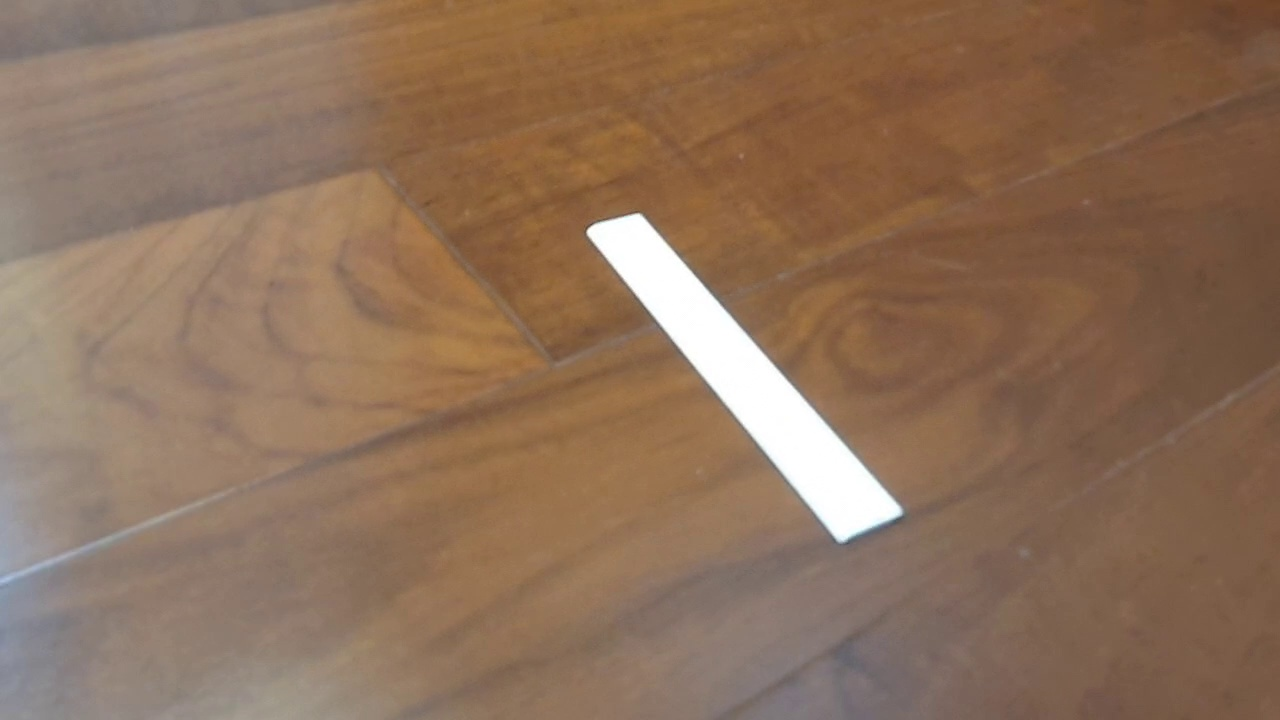ruler: (584, 210, 907, 546)
